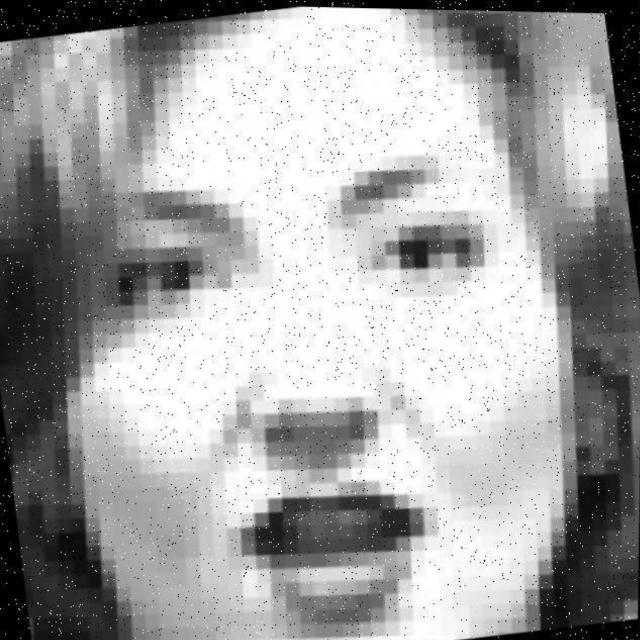Surprised: (6, 81, 569, 640)
